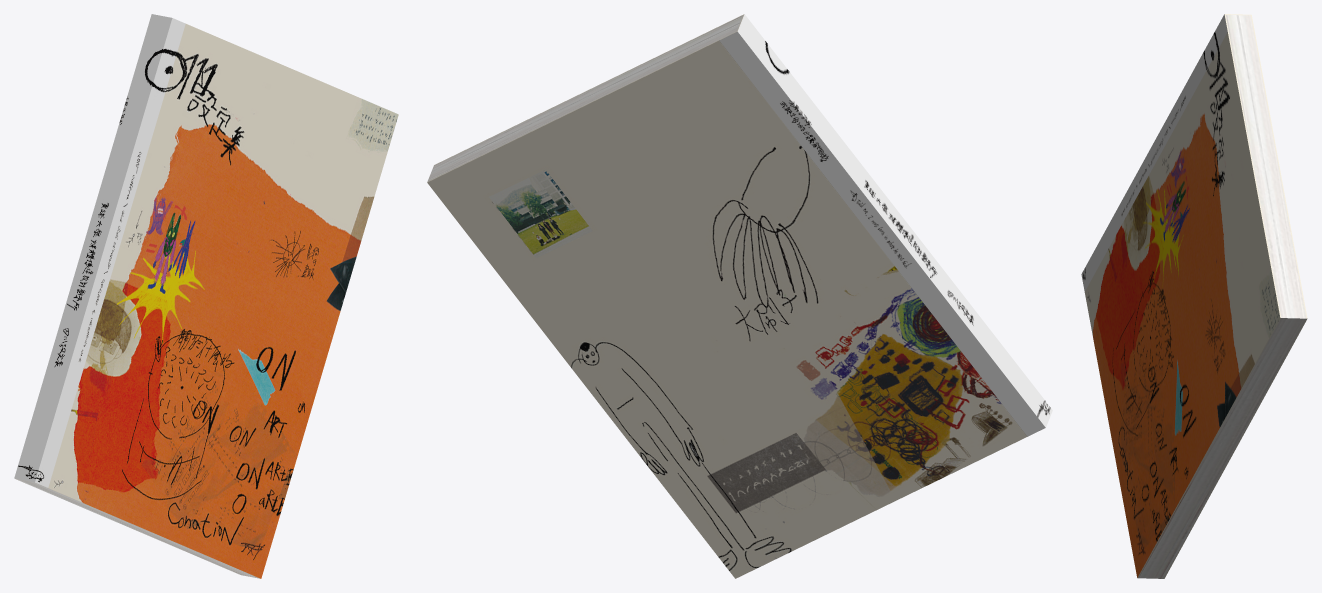
File: ConceptBook3.fbx
3 views of the same model, side by side, from view 1: azimuth 30°, elevation 25°; view 2: azimuth 150°, elevation 25°; view 3: azimuth 270°, elevation 25° (orthographic). The views are drawn at different scales.
Visible parts, largest first — view 1: product:conceptbook; view 2: product:conceptbook; view 3: product:conceptbook.
Part boxes in pixels (<box>): product:conceptbook: <box>14,14,398,578</box>; product:conceptbook: <box>427,14,1052,578</box>; product:conceptbook: <box>1081,14,1307,578</box>.
Bounding box in the file's own units: 250 × 276 × 104.
Materials: 1 (1 with a texture image).
